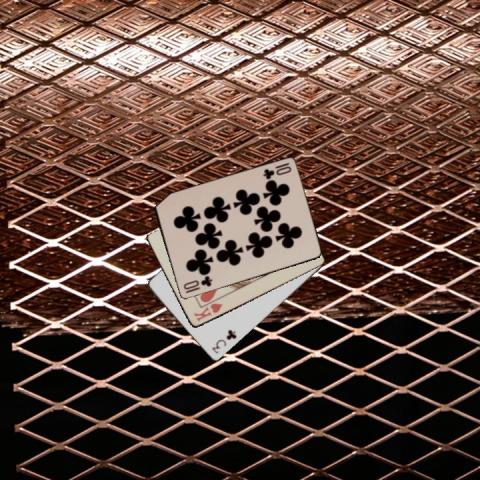10c: (180, 273, 213, 295), (260, 160, 293, 181)
3c: (209, 327, 238, 355)
Kh: (191, 301, 223, 323)
